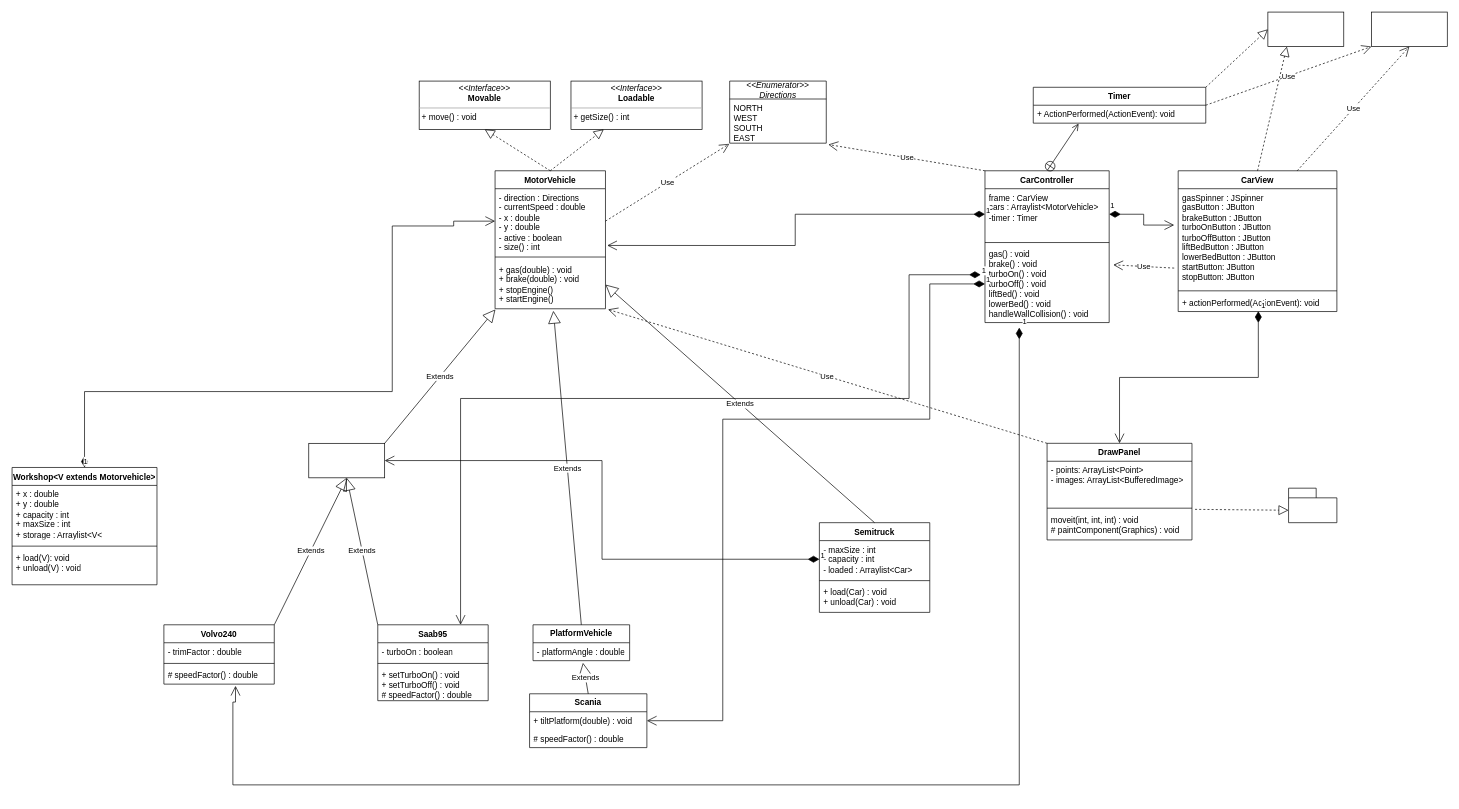
This 1459x809 diagram has some shape labels left out. Here are the shapes that lost their labels. From the top down, the centre of each, then its label:
(1305,29): «interface» ActionListener
(1409,29): ActionEvent
(346,460): Car
(1312,505): Images
